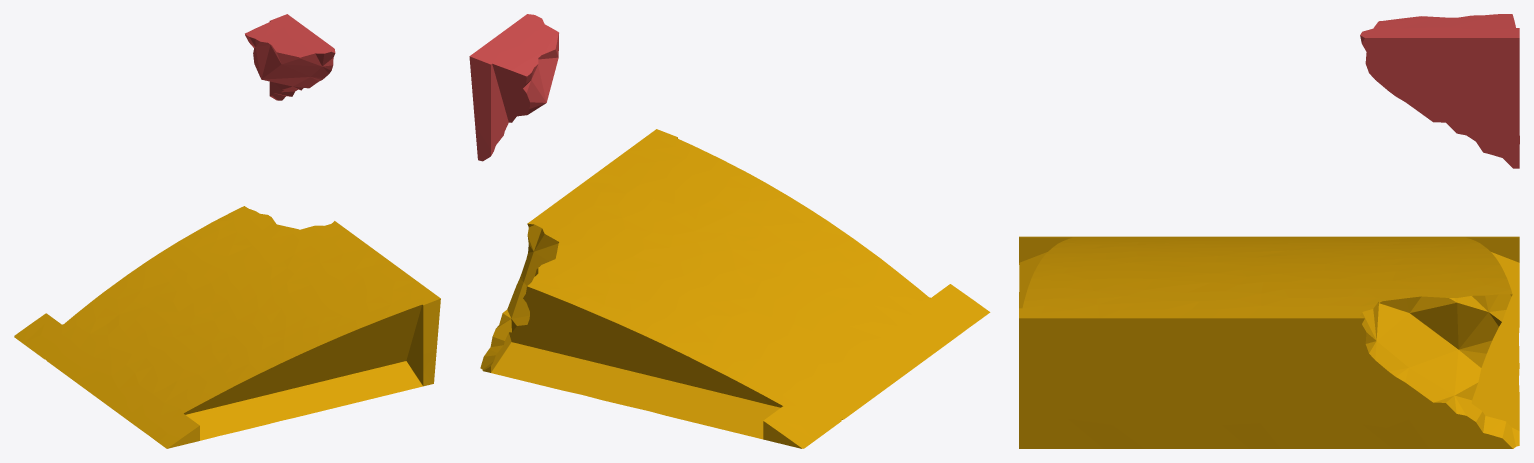
The model's file is fractured_51_2pcs_transformed.glb.
The picture shows the model from 3 angles, left to right: view 1: azimuth 30°, elevation 25°; view 2: azimuth 150°, elevation 25°; view 3: azimuth 270°, elevation 25°; orthographic projection. The views are drawn at different scales.
Parts seen in each view (by area): view 1: piece_0.obj, piece_1.obj; view 2: piece_0.obj, piece_1.obj; view 3: piece_0.obj, piece_1.obj.
Part boxes in pixels (x1,y1,x2,y2): piece_0.obj: (14, 206, 440, 448); piece_1.obj: (245, 14, 335, 100); piece_0.obj: (480, 129, 990, 448); piece_1.obj: (469, 14, 558, 161); piece_0.obj: (1019, 236, 1519, 448); piece_1.obj: (1360, 14, 1519, 168).
Bounding box in the file's own units: 1 × 0.8915 × 0.9714.
